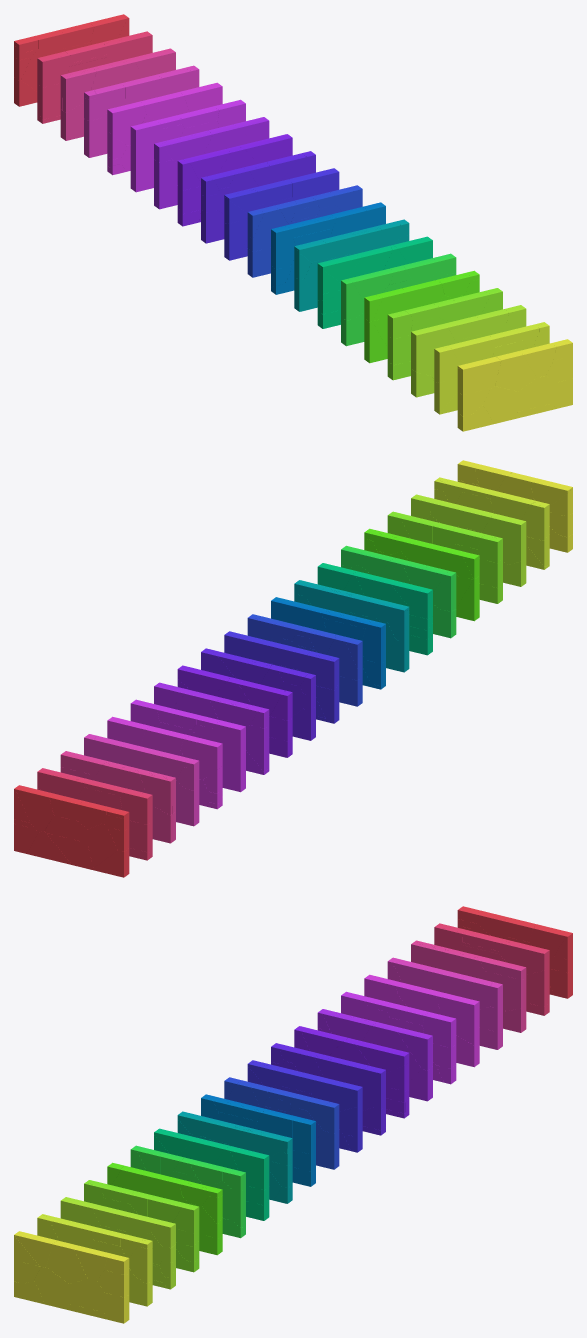
File: COLORFUL WALLS.fbx
The picture shows the model from 3 angles, top to bottom: view 1: azimuth 30°, elevation 25°; view 2: azimuth 150°, elevation 25°; view 3: azimuth 330°, elevation 25°; orthographic projection.
Parts seen in each view (by area): view 1: Cube.006_cell.003, Cube.018_cell.010, Cube_cell.014, Cube.005_cell.008, Cube.010_cell.003, Cube_cell.012, Cube.008_cell.001, Cube_cell, Cube.011_cell.003, Cube.008_cell.017, Cube.005_cell.004, Cube.003_cell.003 (+55 smaller); view 2: Cube.006_cell.003, Cube.018_cell.010, Cube.005_cell.008, Cube.001_cell.008, Cube.010_cell.003, Cube.008_cell.001, Cube.003_cell, Cube.014_cell.012, Cube.005_cell.004, Cube.003_cell.005, Cube.012_cell.014, Cube.008_cell.023 (+52 smaller); view 3: Cube.005_cell.001, Cube.010_cell.003, Cube_cell.014, Cube.014_cell.010, Cube.008_cell.018, Cube_cell.012, Cube.008_cell.001, Cube_cell, Cube.006_cell.002, Cube.003_cell.009, Cube.005_cell.004, Cube.008_cell.017 (+54 smaller).
Boxes of the visible parts, x1,y1,x2,y2 form: Cube.006_cell.003: [130, 120, 163, 192]; Cube.018_cell.010: [411, 324, 455, 376]; Cube_cell.014: [495, 351, 536, 391]; Cube.005_cell.008: [107, 101, 146, 145]; Cube.010_cell.003: [289, 168, 339, 200]; Cube_cell.012: [483, 386, 517, 423]; Cube.008_cell.001: [238, 134, 292, 163]; Cube_cell: [518, 375, 553, 411]; Cube.011_cell.003: [247, 206, 288, 251]; Cube.008_cell.017: [162, 131, 212, 163]; Cube.005_cell.004: [141, 92, 188, 120]; Cube.003_cell.003: [91, 60, 139, 90]; Cube.006_cell.003: [213, 720, 245, 792]; Cube.018_cell.010: [482, 513, 526, 564]; Cube.005_cell.008: [180, 736, 222, 779]; Cube.001_cell.008: [15, 785, 53, 831]; Cube.010_cell.003: [224, 631, 275, 663]; Cube.008_cell.001: [177, 665, 230, 695]; Cube.003_cell: [96, 763, 145, 792]; Cube.014_cell.012: [356, 572, 408, 606]; Cube.005_cell.004: [141, 726, 190, 754]; Cube.003_cell.005: [140, 772, 172, 815]; Cube.012_cell.014: [362, 621, 385, 663]; Cube.008_cell.023: [246, 725, 269, 771]; Cube.005_cell.001: [436, 992, 479, 1045]; Cube.010_cell.003: [311, 1076, 362, 1111]; Cube_cell.014: [46, 1240, 87, 1283]; Cube.014_cell.010: [230, 1147, 269, 1189]; Cube.008_cell.018: [362, 1022, 421, 1081]; Cube_cell.012: [34, 1267, 68, 1309]; Cube.008_cell.001: [356, 1040, 409, 1072]; Cube_cell: [69, 1279, 104, 1312]; Cube.006_cell.002: [422, 1012, 456, 1047]; Cube.003_cell.009: [484, 971, 526, 1011]; Cube.005_cell.004: [396, 983, 441, 1014]; Cube.008_cell.017: [323, 1011, 375, 1040].
Size of the model in its own units: 506 by 273 by 3580.
Materials: 1 (1 with a texture image).
